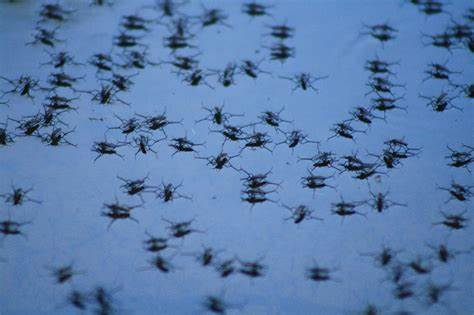Breeding_detected: (354, 17, 471, 102), (370, 249, 455, 309), (164, 35, 206, 85), (15, 111, 64, 142), (382, 136, 421, 172), (98, 195, 136, 230), (160, 213, 202, 237), (201, 102, 233, 130), (205, 150, 238, 175), (299, 168, 332, 191), (88, 137, 121, 158), (237, 256, 267, 277)
